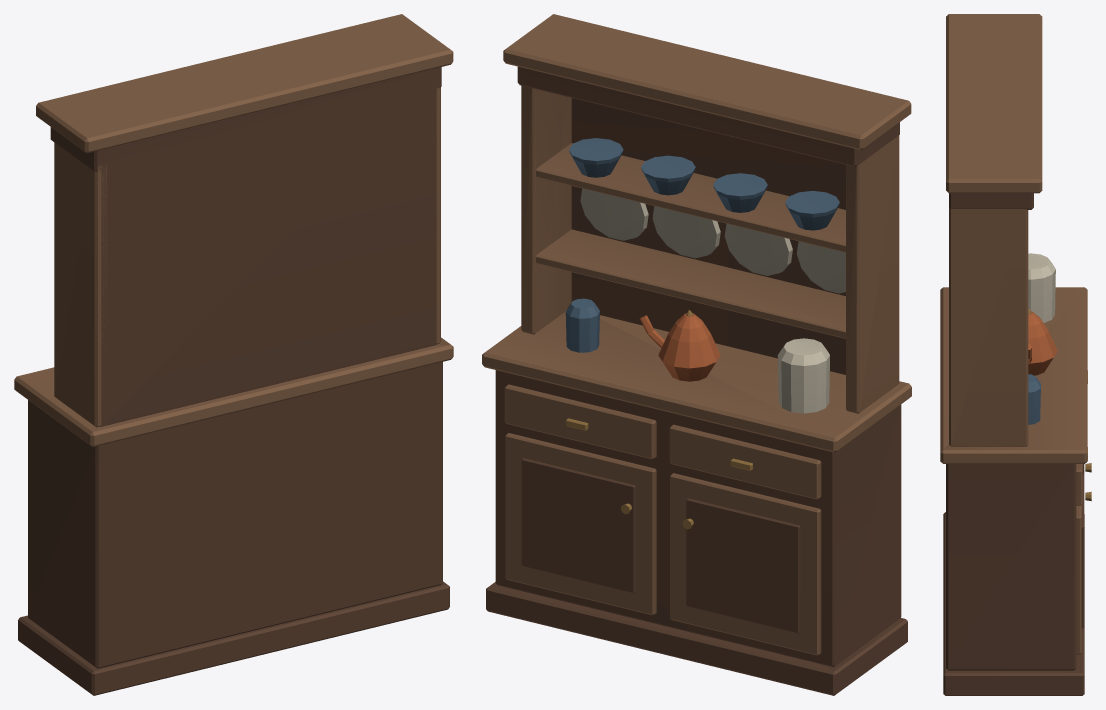
File: hargrove_china_hutch.glb
3 renders of one model, left to right at view 1: azimuth 30°, elevation 25°; view 2: azimuth 150°, elevation 25°; view 3: azimuth 270°, elevation 25°, orthographic. The views are drawn at different scales.
Parts seen in each view (by area): view 1: hargrove_china_hutch; view 2: hargrove_china_hutch; view 3: hargrove_china_hutch.
Part boxes in pixels (bbox=[...]): hargrove_china_hutch: bbox=[14, 14, 453, 695]; hargrove_china_hutch: bbox=[482, 14, 911, 695]; hargrove_china_hutch: bbox=[940, 14, 1091, 695].
Bounding box in the file's own units: 1.4 × 2.02 × 0.534.
